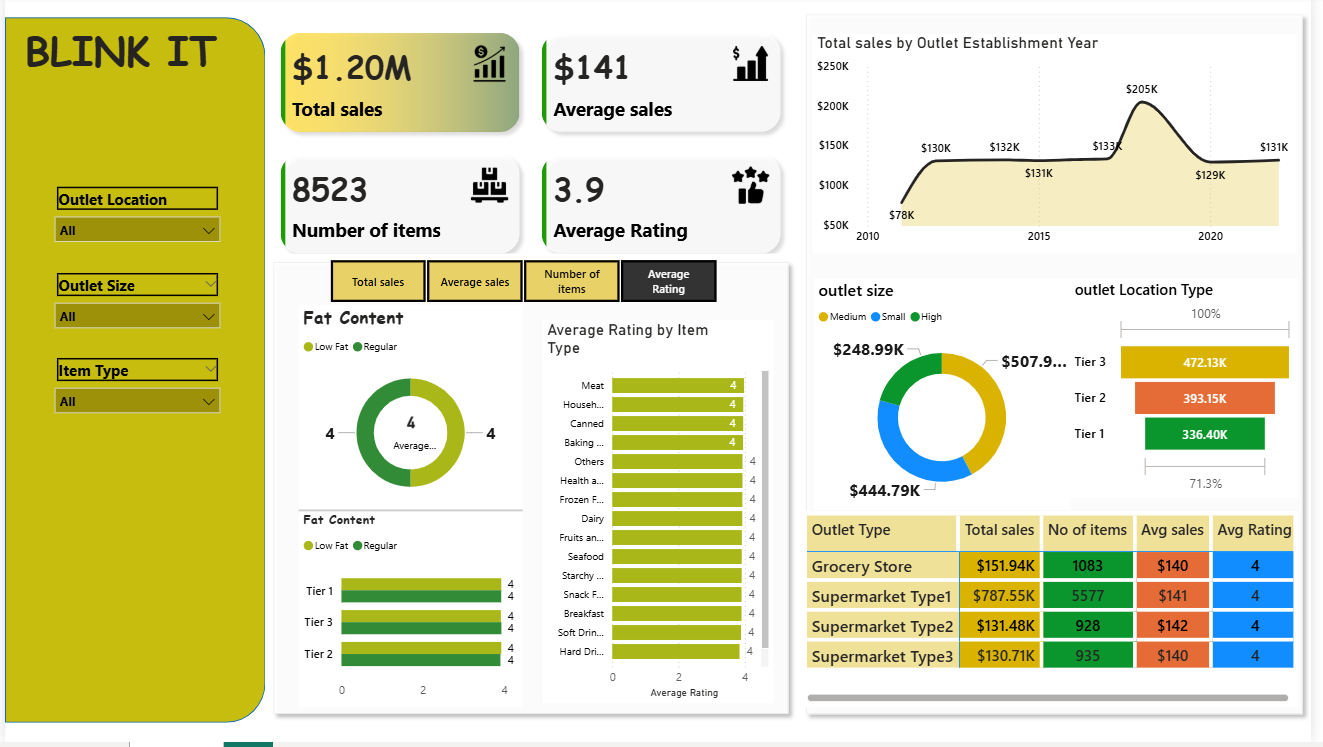

What the dashboard file says about the page in this screenshot:
{"tool":"powerbi","page":{"name":"Page 1","canvas":[1400,800],"ordinal":0},"visuals":[{"type":"shape","box":[0,22.5,279.2,756.4],"z":0},{"type":"textbox","box":[16.5,22.5,225.1,75],"z":1000},{"type":"cardVisual","fields":{"Data":["BlinkIT Grocery Data.Total sales","BlinkIT Grocery Data.Average sales","BlinkIT Grocery Data.Number of items","BlinkIT Grocery Data.Average Rating"]},"box":[279.2,22.5,570.3,270.2],"z":2000},{"type":"shape","box":[279.2,276.2,570.3,502.8],"z":3000},{"type":"donutChart","title":" Fat Content","fields":{"Y":["BlinkIT Grocery Data.Average Rating"],"Category":["BlinkIT Grocery Data.Item Fat Content"]},"box":[315.2,331.7,240.1,220.6],"z":4000},{"type":"slicer","fields":{"Values":["Metrix.Metrix"]},"box":[322.7,276.2,463.8,55.5],"z":5000},{"type":"cardVisual","fields":{"Data":["BlinkIT Grocery Data.Average Rating"]},"box":[387.2,430.7,96.1,66],"z":6000},{"type":"clusteredBarChart","title":"Fat Content","fields":{"Y":["BlinkIT Grocery Data.Average Rating"],"Category":["BlinkIT Grocery Data.Outlet Location Type"],"Series":["BlinkIT Grocery Data.Item Fat Content"]},"box":[315.2,552.3,240.1,210.1],"z":7000},{"type":"shape","box":[315.2,538.8,240.1,25.5],"z":8000},{"type":"barChart","fields":{"Y":["BlinkIT Grocery Data.Average Rating"],"Category":["BlinkIT Grocery Data.Item Type"]},"box":[576.3,346.7,247.6,411.2],"z":9000},{"type":"shape","box":[849.5,10.5,550.8,768.4],"z":10000},{"type":"lineChart","fields":{"Category":["BlinkIT Grocery Data.Outlet Establishment Year"],"Y":["BlinkIT Grocery Data.Total sales"]},"box":[866,40.5,519.3,235.6],"z":11000},{"type":"donutChart","title":"outlet size","fields":{"Y":["BlinkIT Grocery Data.Total sales"],"Category":["BlinkIT Grocery Data.Outlet Size"]},"box":[866.7,303.3,275,248.3],"z":12000},{"type":"funnel","title":"outlet Location Type","fields":{"Y":["Sum(BlinkIT Grocery Data.Sales)"],"Category":["BlinkIT Grocery Data.Outlet Location Type"]},"box":[1141.7,303.3,245,235],"z":13000},{"type":"pivotTable","fields":{"Rows":["BlinkIT Grocery Data.Outlet Type"],"Values":["BlinkIT Grocery Data.Total sales","BlinkIT Grocery Data.Number of items","BlinkIT Grocery Data.Average sales","BlinkIT Grocery Data.Average Rating"]},"box":[855,551.7,531.7,210],"z":14000},{"type":"slicer","fields":{"Values":["BlinkIT Grocery Data.Outlet Location Type"]},"box":[43.3,200,198.3,80],"z":15000},{"type":"slicer","fields":{"Values":["BlinkIT Grocery Data.Outlet Size"]},"box":[43.3,291.7,198.3,80],"z":16000},{"type":"slicer","fields":{"Values":["BlinkIT Grocery Data.Item Type"]},"box":[43.3,383.3,198.3,80],"z":17000}]}

Visuals, with their boxes in screenshot pixels (x1, y1, x2, y2), scaled from the page's 1400x800 canvas onto the 1323x747 screenshot:
shape: {"x1": 0, "y1": 21, "x2": 264, "y2": 727}
textbox: {"x1": 16, "y1": 21, "x2": 228, "y2": 91}
cardVisual - BlinkIT Grocery Data.Total sales x BlinkIT Grocery Data.Average sales: {"x1": 264, "y1": 21, "x2": 803, "y2": 273}
shape: {"x1": 264, "y1": 258, "x2": 803, "y2": 727}
" Fat Content" donutChart: {"x1": 298, "y1": 310, "x2": 525, "y2": 516}
slicer - Metrix.Metrix: {"x1": 305, "y1": 258, "x2": 743, "y2": 310}
cardVisual - BlinkIT Grocery Data.Average Rating: {"x1": 366, "y1": 402, "x2": 457, "y2": 464}
"Fat Content" clusteredBarChart: {"x1": 298, "y1": 516, "x2": 525, "y2": 712}
shape: {"x1": 298, "y1": 503, "x2": 525, "y2": 527}
barChart - BlinkIT Grocery Data.Average Rating x BlinkIT Grocery Data.Item Type: {"x1": 545, "y1": 324, "x2": 779, "y2": 708}
shape: {"x1": 803, "y1": 10, "x2": 1322, "y2": 727}
lineChart - BlinkIT Grocery Data.Outlet Establishment Year x BlinkIT Grocery Data.Total sales: {"x1": 818, "y1": 38, "x2": 1309, "y2": 258}
"outlet size" donutChart: {"x1": 819, "y1": 283, "x2": 1079, "y2": 515}
"outlet Location Type" funnel: {"x1": 1079, "y1": 283, "x2": 1310, "y2": 503}
pivotTable - BlinkIT Grocery Data.Outlet Type x BlinkIT Grocery Data.Total sales: {"x1": 808, "y1": 515, "x2": 1310, "y2": 711}
slicer - BlinkIT Grocery Data.Outlet Location Type: {"x1": 41, "y1": 187, "x2": 228, "y2": 261}
slicer - BlinkIT Grocery Data.Outlet Size: {"x1": 41, "y1": 272, "x2": 228, "y2": 347}
slicer - BlinkIT Grocery Data.Item Type: {"x1": 41, "y1": 358, "x2": 228, "y2": 433}
